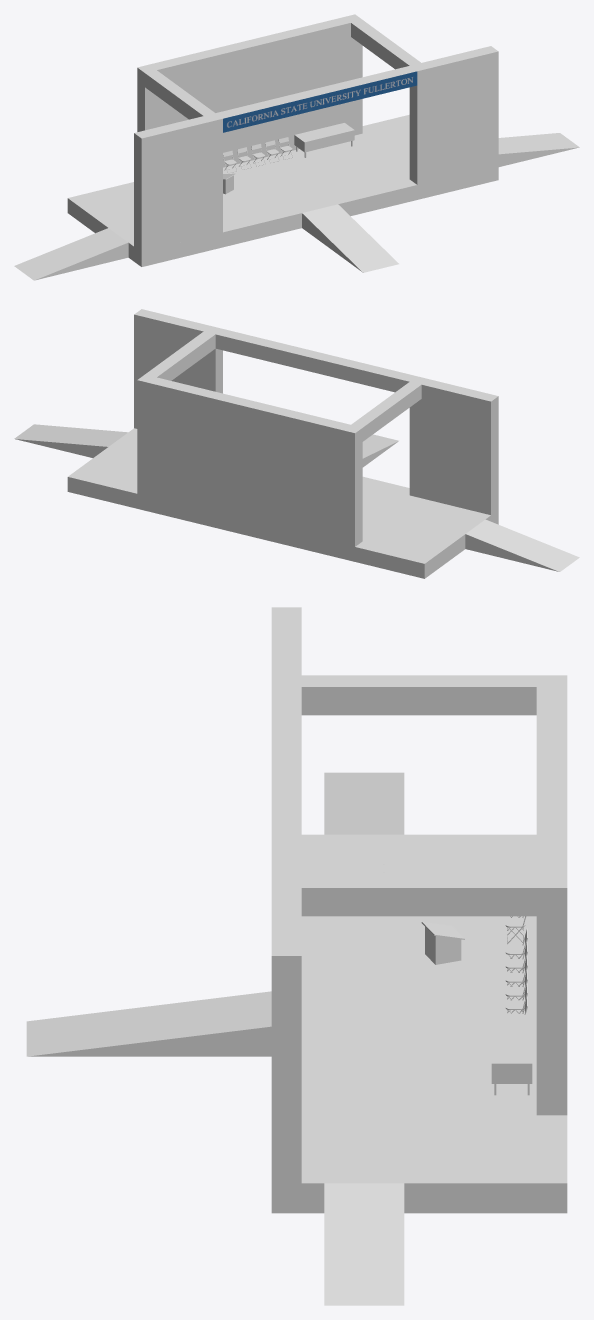
The model's file is Graduation_Stage.fbx.
3 renders of one model, top to bottom at view 1: azimuth 30°, elevation 25°; view 2: azimuth 150°, elevation 25°; view 3: azimuth 270°, elevation 25°, orthographic. The views are drawn at different scales.
Visible parts, largest first — view 1: Graduation Top, Graduation Stage, Graduation Side Ramp, Graduation Front Ramp; view 2: Graduation Top, Graduation Stage, Graduation Side Ramp, Graduation Front Ramp; view 3: Graduation Stage, Graduation Top, Graduation Side Ramp, Graduation Front Ramp.
Boxes of the visible parts, left/top/right/bottom form: Graduation Top: left=134, top=14, right=498, bottom=251; Graduation Stage: left=67, top=114, right=498, bottom=266; Graduation Side Ramp: left=14, top=133, right=579, bottom=280; Graduation Front Ramp: left=302, top=204, right=398, bottom=272; Graduation Top: left=134, top=309, right=498, bottom=546; Graduation Stage: left=67, top=428, right=498, bottom=578; Graduation Side Ramp: left=14, top=424, right=579, bottom=571; Graduation Front Ramp: left=362, top=434, right=398, bottom=467; Graduation Stage: left=271, top=834, right=567, bottom=1213; Graduation Top: left=271, top=607, right=567, bottom=1183; Graduation Side Ramp: left=324, top=772, right=404, bottom=1305; Graduation Front Ramp: left=26, top=991, right=271, bottom=1056.
Bounding box in the file's own units: 35.72 × 15.32 × 8.05.
